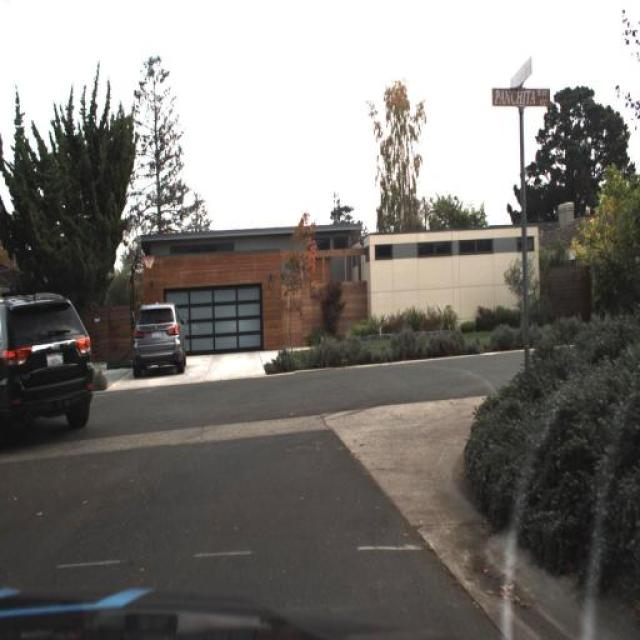car: (0, 291, 96, 441), (121, 290, 192, 386)
